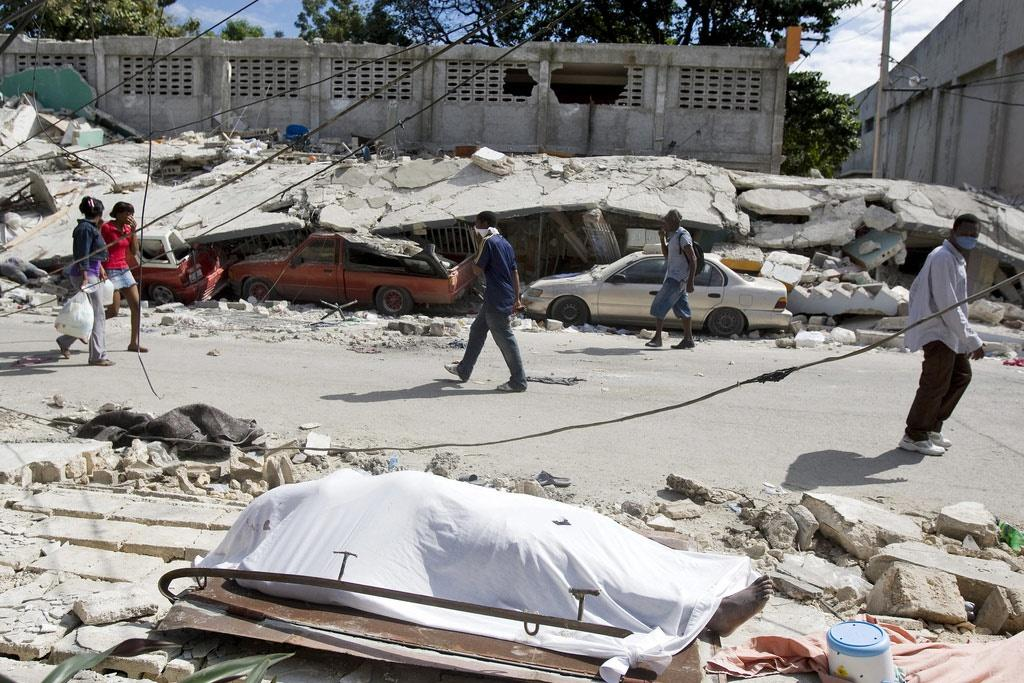victim: (881, 212, 996, 462), (444, 212, 527, 396), (634, 208, 708, 355), (57, 197, 112, 379), (99, 191, 155, 365)
